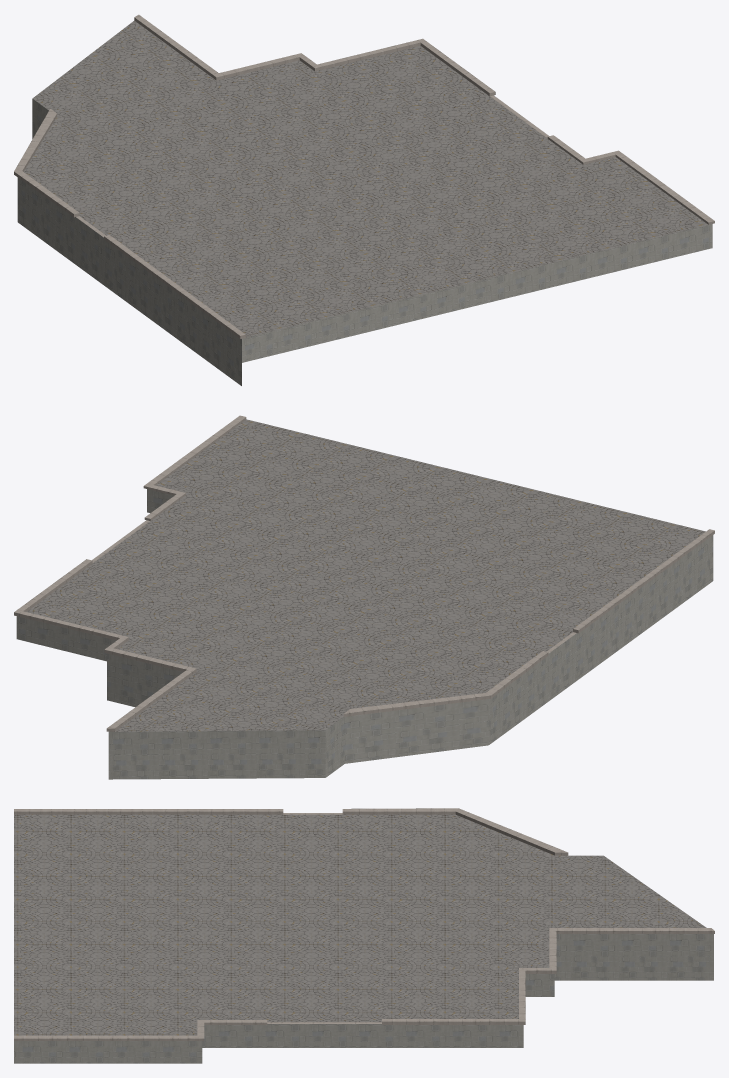
File: TownGroundTile_E.fbx
The picture shows the model from 3 angles, top to bottom: view 1: azimuth 30°, elevation 25°; view 2: azimuth 150°, elevation 25°; view 3: azimuth 270°, elevation 25°; orthographic projection.
Visible parts, largest first — view 1: TownGroundTile_E; view 2: TownGroundTile_E; view 3: TownGroundTile_E.
Boxes of the visible parts, x1,y1,x2,y2 form: TownGroundTile_E: (14,14,714,385); TownGroundTile_E: (14,415,714,779); TownGroundTile_E: (14,808,714,1063).
Bounding box in the file's own units: 10361 × 1061 × 13378.
Materials: 3 (3 with a texture image).
